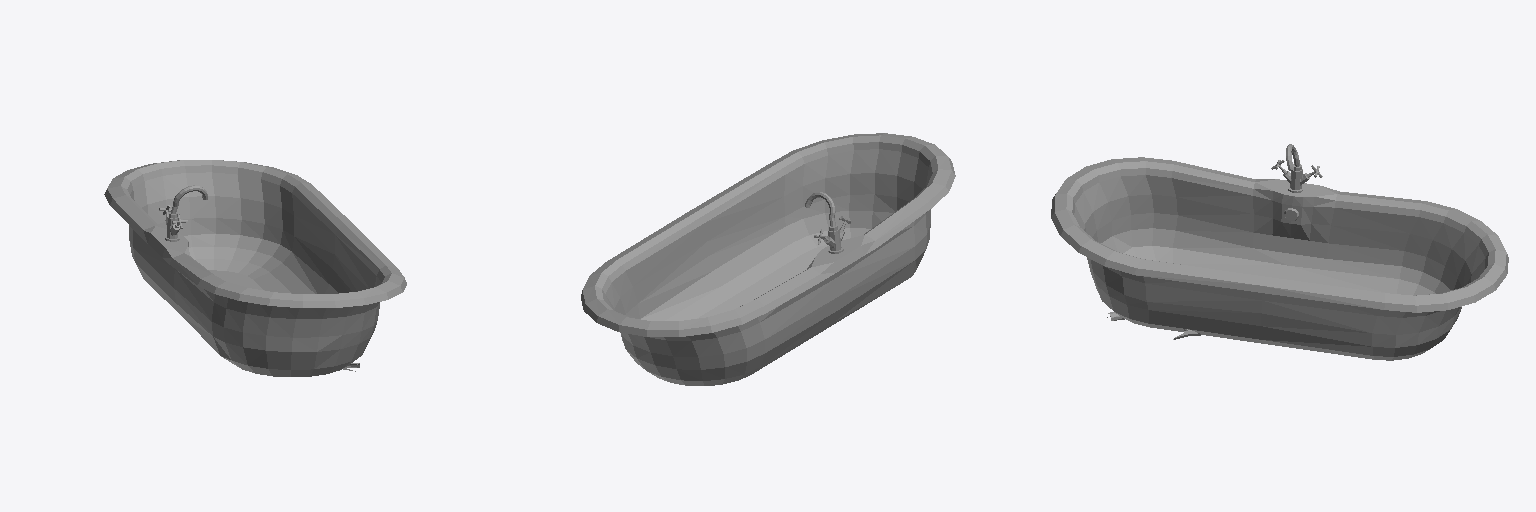
File: Bathtub2.obj
3 renders of one model, left to right at view 1: azimuth 30°, elevation 25°; view 2: azimuth 150°, elevation 25°; view 3: azimuth 270°, elevation 25°, orthographic.
Parts seen in each view (by area): view 1: Mesh_0424; view 2: Mesh_0424; view 3: Mesh_0424.
Part boxes in pixels (left/top/right/bottom): Mesh_0424: left=104, top=160, right=406, bottom=376; Mesh_0424: left=581, top=133, right=955, bottom=385; Mesh_0424: left=1051, top=144, right=1508, bottom=360.
Size of the model in its own units: 24.62 by 17.07 by 43.73.